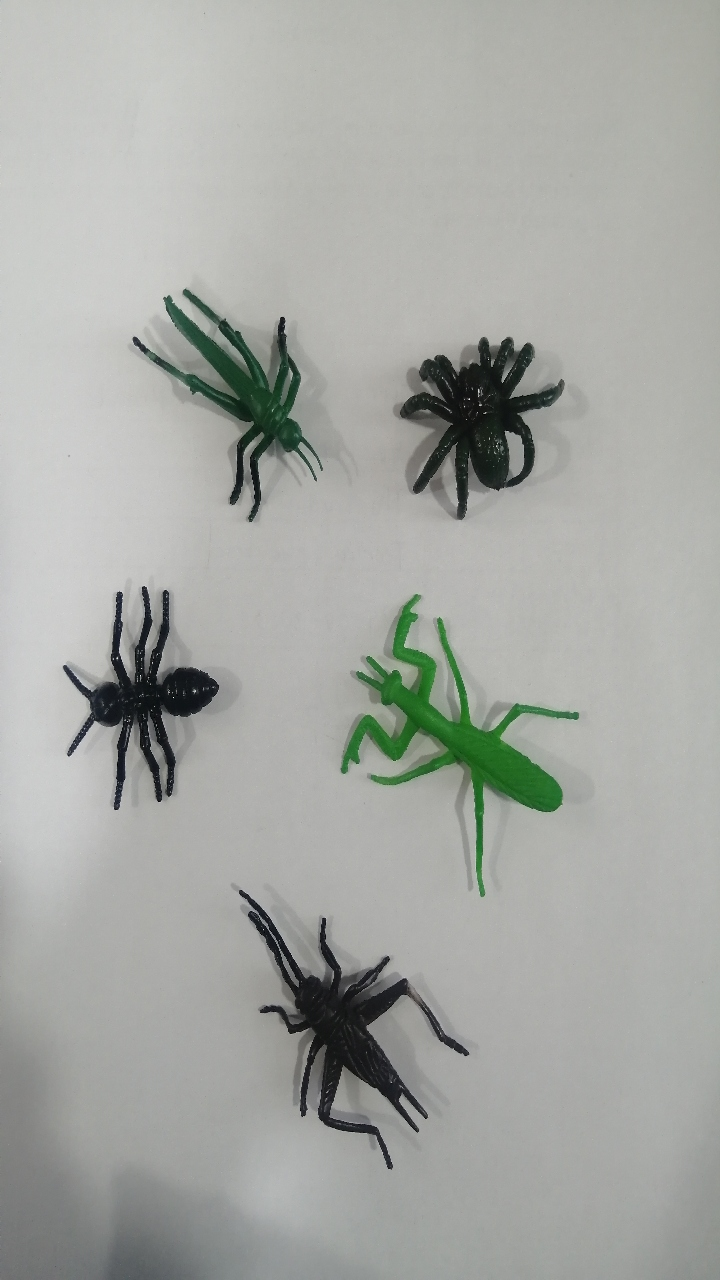intruso: (314, 569, 611, 922), (191, 859, 497, 1183), (98, 235, 355, 535), (377, 289, 589, 545), (38, 569, 234, 825)
